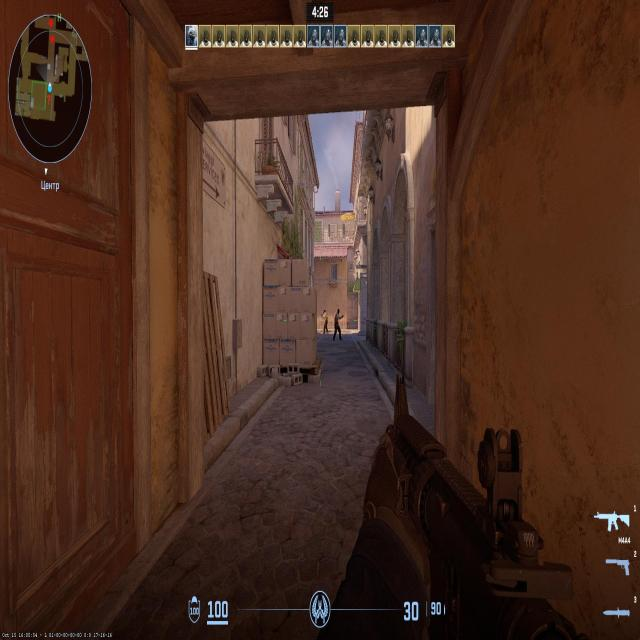T: (336, 309, 342, 341), (323, 311, 327, 332)
T_heat: (337, 309, 340, 315), (325, 311, 326, 315)
